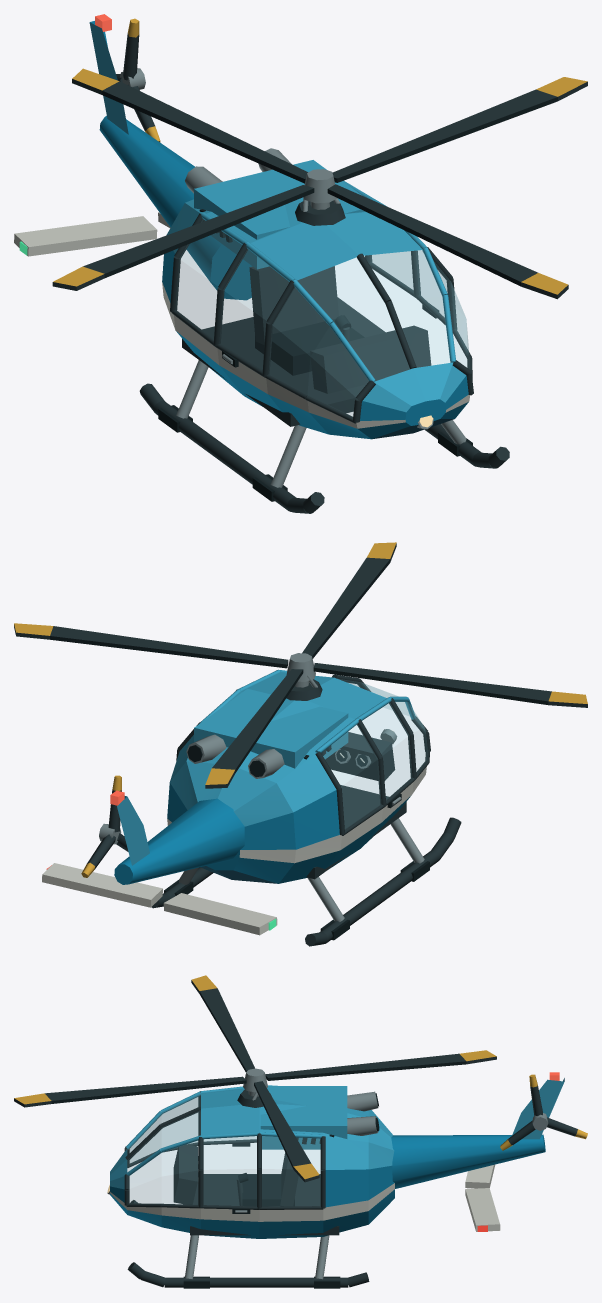
File: helicoptero.glb
The picture shows the model from 3 angles, top to bottom: view 1: azimuth 30°, elevation 25°; view 2: azimuth 150°, elevation 25°; view 3: azimuth 270°, elevation 25°; orthographic projection. The views are drawn at different scales.
Visible parts, largest first — view 1: Celula_e_instrumentos, Vidros_da_cabine, giro_y_0, giro_x_1; view 2: Celula_e_instrumentos, giro_y_0, Vidros_da_cabine, giro_x_1; view 3: Celula_e_instrumentos, Vidros_da_cabine, giro_y_0, giro_x_1.
Part boxes in pixels (x1,y1,x2,y2): Celula_e_instrumentos: (14,21,509,513); Vidros_da_cabine: (175,219,469,416); giro_y_0: (52,68,587,299); giro_x_1: (116,18,160,142); Celula_e_instrumentos: (42,669,461,946); giro_y_0: (14,542,587,788); Vidros_da_cabine: (321,679,427,829); giro_x_1: (81,775,128,877); Celula_e_instrumentos: (107,1078,564,1288); Vidros_da_cabine: (127,1094,320,1206); giro_y_0: (14,975,496,1182); giro_x_1: (500,1074,587,1150).
Bounding box in the file's own units: 4.78 × 2.03 × 5.68.
